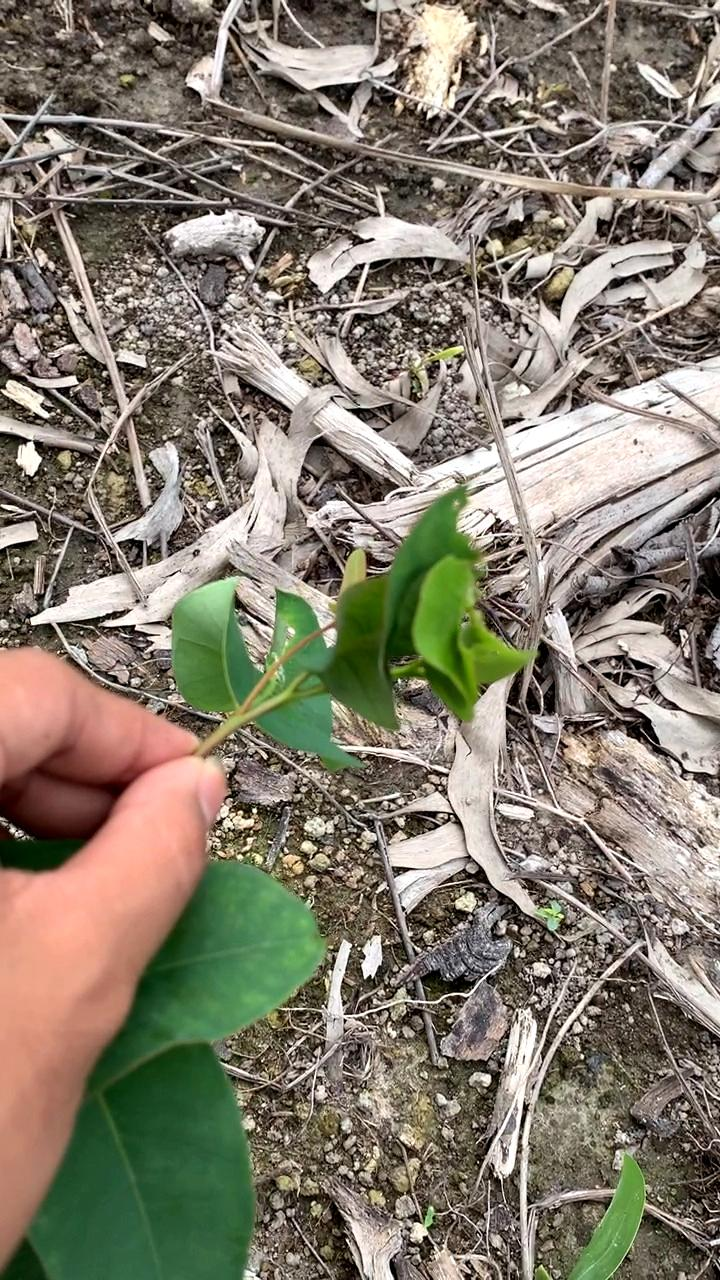Leaf Roller - Leaf: (267, 468, 535, 786)
